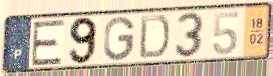3: (173, 11, 207, 59)
5: (211, 9, 240, 56)
9: (67, 16, 100, 66)
D: (137, 14, 171, 61)
E: (30, 18, 67, 68)
G: (102, 15, 137, 63)
